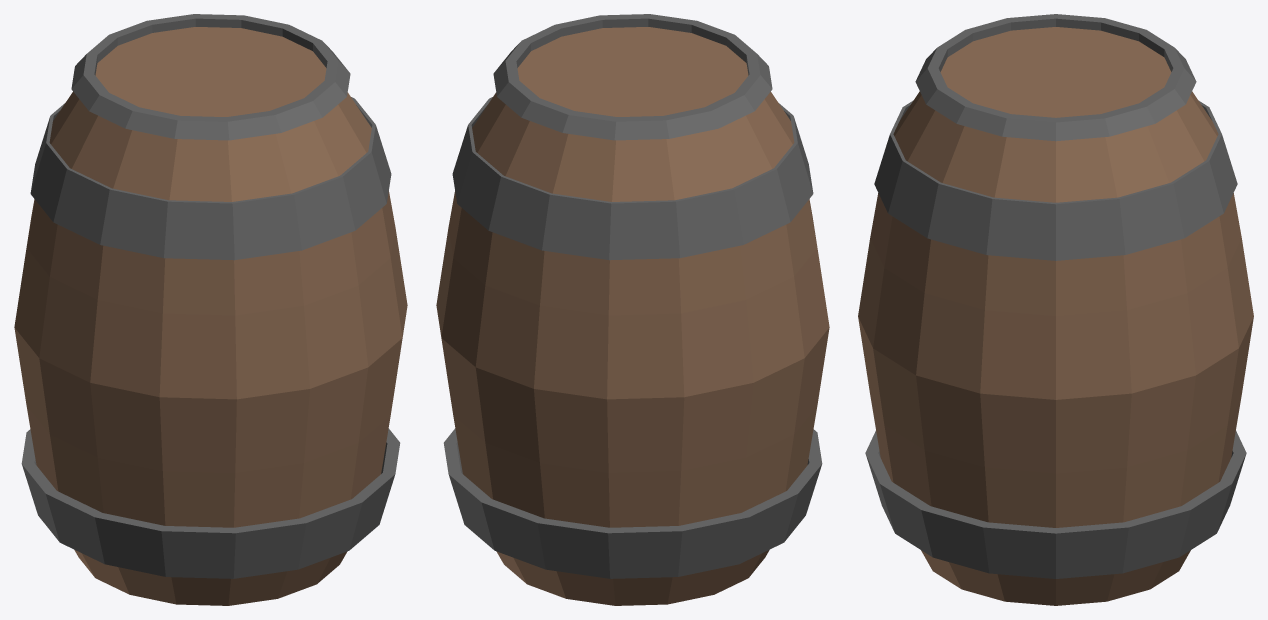
Rendered from barrel.fbx.
3 views of the same model, side by side, from view 1: azimuth 30°, elevation 25°; view 2: azimuth 150°, elevation 25°; view 3: azimuth 270°, elevation 25° (orthographic).
Visible parts, largest first — view 1: Barrel, BarrelLid; view 2: Barrel, BarrelLid; view 3: Barrel, BarrelLid.
Part boxes in pixels (bbox=[...]): Barrel: bbox=[14, 91, 407, 605]; BarrelLid: bbox=[71, 14, 350, 140]; Barrel: bbox=[436, 91, 829, 605]; BarrelLid: bbox=[493, 14, 772, 140]; Barrel: bbox=[858, 91, 1253, 605]; BarrelLid: bbox=[915, 14, 1196, 141].
Bounding box in the file's own units: 310 × 416 × 310.
